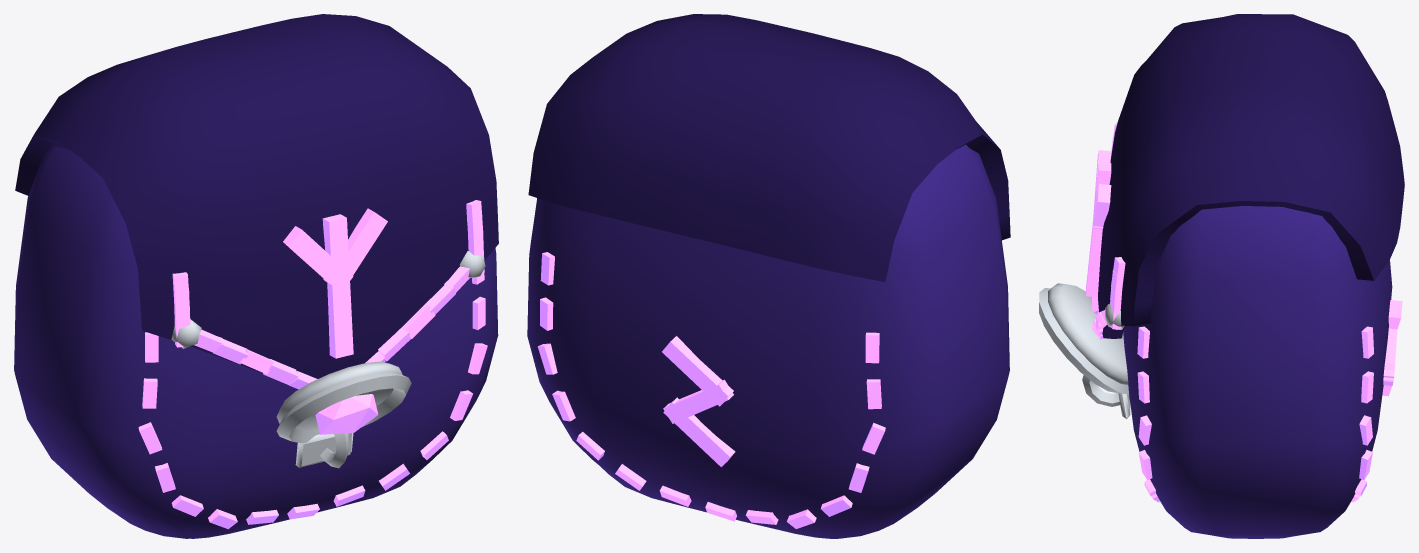
The model's file is item_pouch_rune.glb.
The picture shows the model from 3 angles, left to right: view 1: azimuth 30°, elevation 25°; view 2: azimuth 150°, elevation 25°; view 3: azimuth 270°, elevation 25°; orthographic projection. The views are drawn at different scales.
Parts seen in each view (by area): view 1: PouchRune; view 2: PouchRune; view 3: PouchRune.
Part boxes in pixels (<box>): PouchRune: <box>14,14,498,538</box>; PouchRune: <box>527,14,1010,538</box>; PouchRune: <box>1039,14,1404,538</box>.
Bounding box in the file's own units: 0.2818 × 0.29 × 0.2183.
